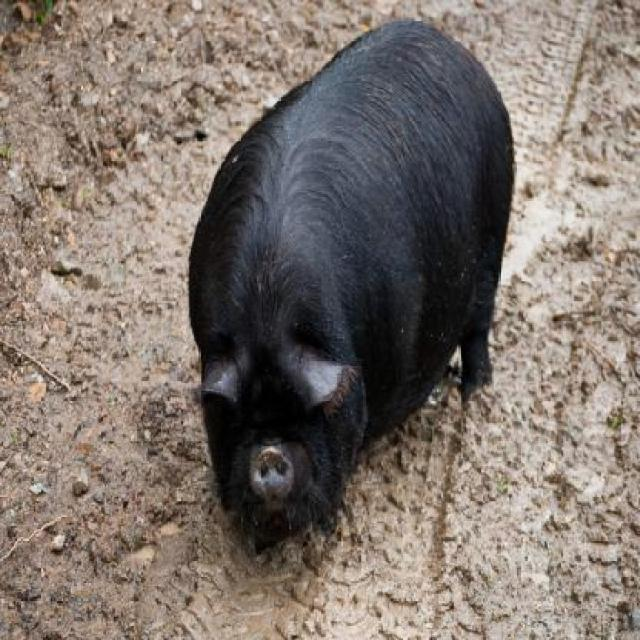Boar: (188, 17, 514, 555)
